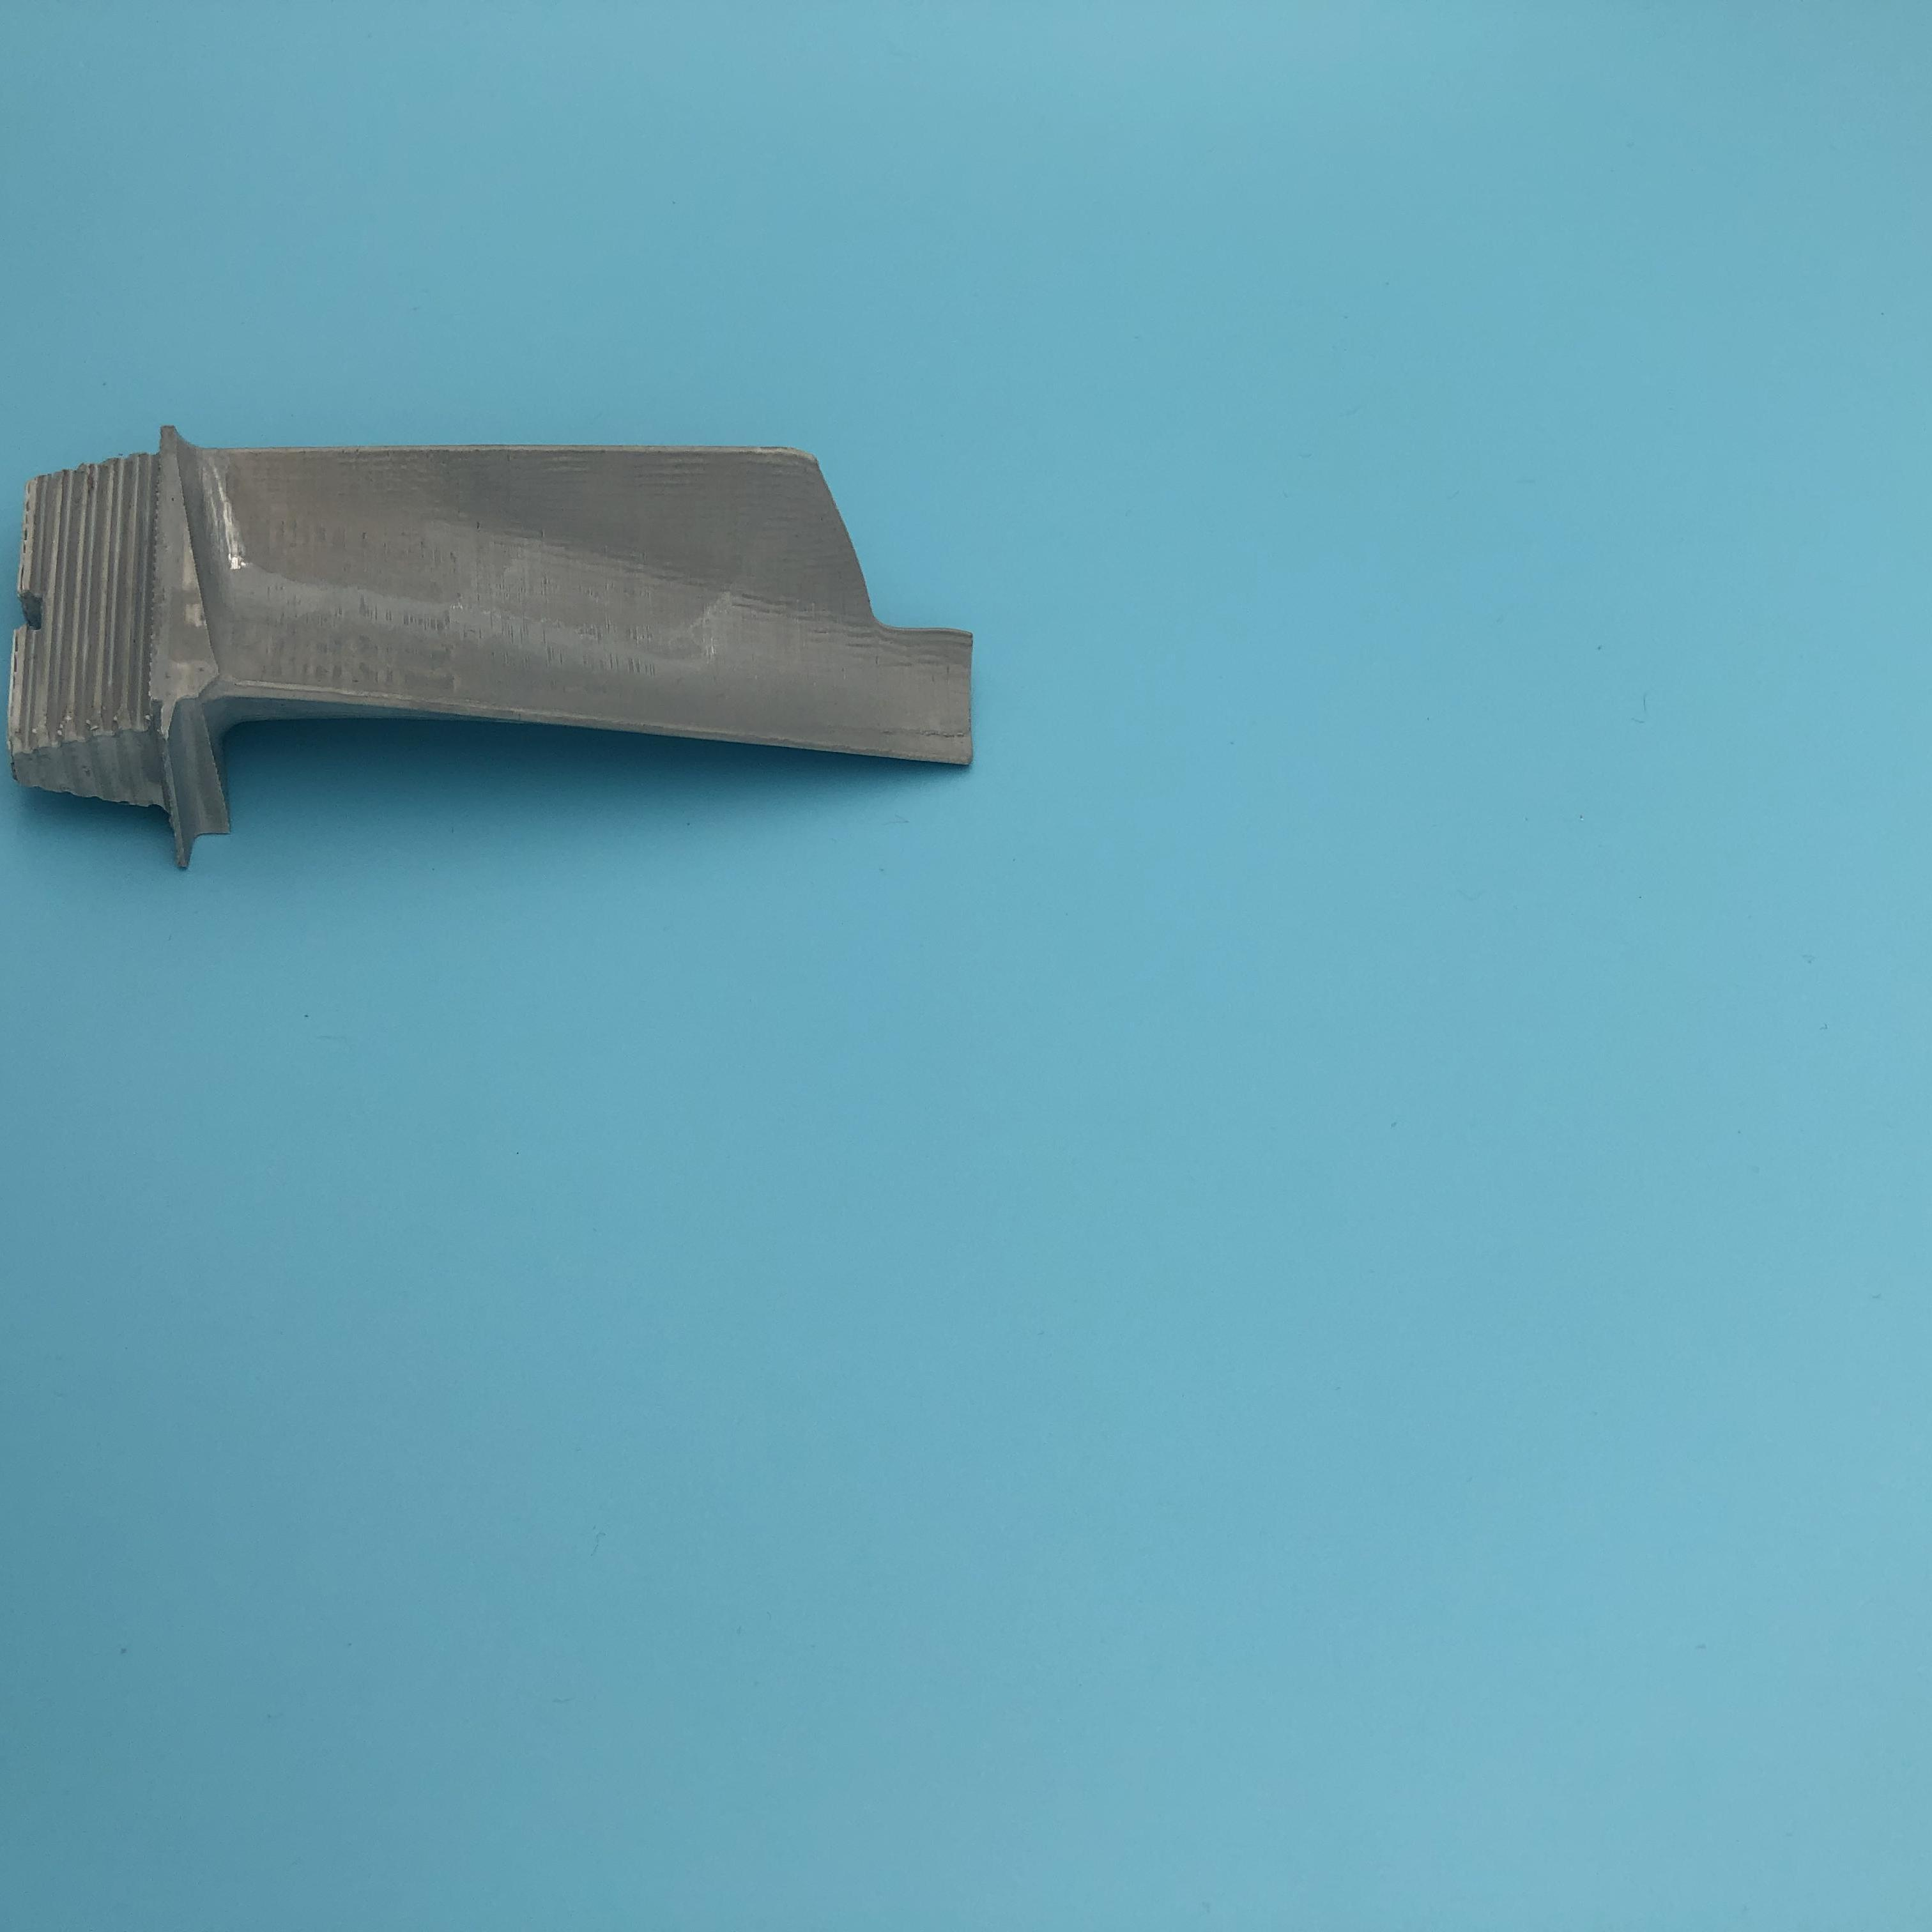fracture: (810, 455, 978, 646)
